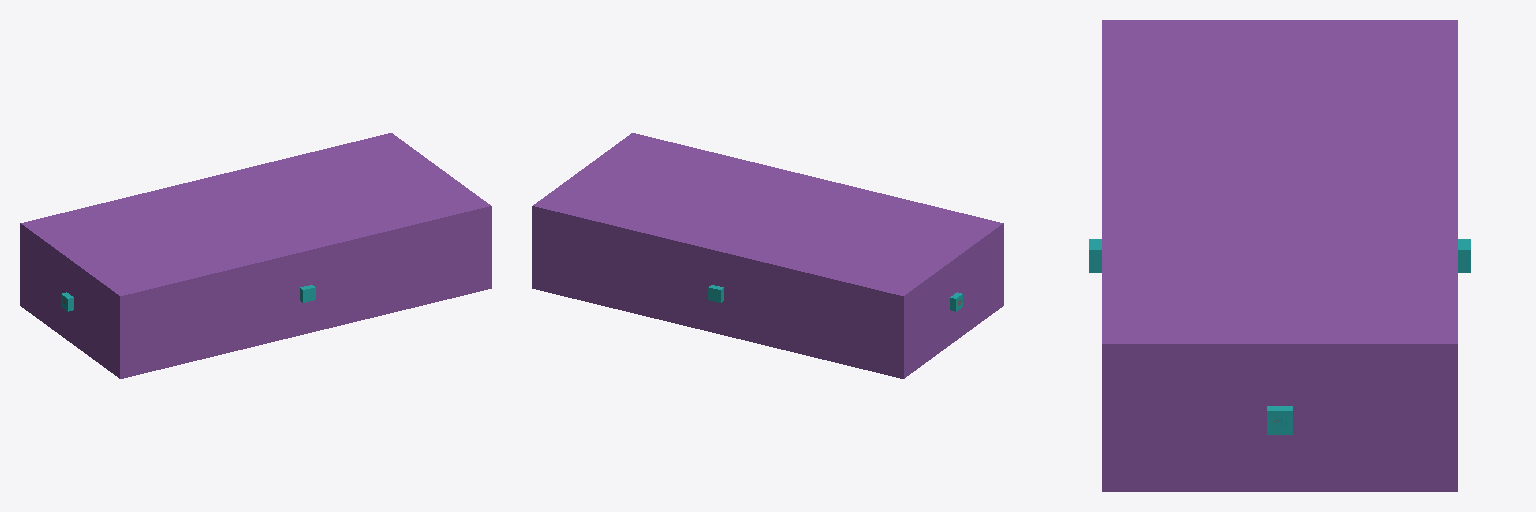
--- Render facts (derived) ---
3 views of the same robot in one strip: view 1: azimuth 30°, elevation 25°; view 2: azimuth 150°, elevation 25°; view 3: azimuth 270°, elevation 25° (orthographic).
Robot: LCAMP_Robot — 38 links, 37 joints (37 fixed); root link center; default pose: every joint at zero.
Visible links, largest first — view 1: center; view 2: center; view 3: center, Sensorbox_front.
Link boxes in pixels (box(x1,y1,x2,y2)): center: box(20, 133, 491, 378); center: box(532, 133, 1003, 378); center: box(1102, 20, 1457, 491); Sensorbox_front: box(1267, 406, 1292, 434).
Size in the robot's own frame: 0.31 by 0.15 by 0.064 metres.
Geometry: only primitive shapes (box / cylinder / sphere) drawn; not drawn: 24 mesh visuals (reference in a form the renderer does not follow).

robot.urdf — LCAMP_Robot:
?<?xml version="1.0" encoding="utf-8"?>
<robot name="LCAMP_Robot">
  <link name="center">
    <inertial>
      <origin rpy="0 0 0" xyz="0 0 0" />
      <mass value="50" />
      <inertia ixx="9.873334740207909E-05" ixy="0" ixz="0" iyy="0.00039206672253317153" iyz="0" izz="0.0004566667317381781" />
    </inertial>
    <visual>
      <geometry>
        <box size="0.3000000142492354 0.14000000059604645 0.06400000303983688" />
      </geometry>
      <material name="center_material">
        <color rgba="0.6000000238418579 0.4000000059604645 0.699999988079071 0.5" />
      </material>
    </visual>
    <collision>
      <geometry>
        <box size="0.3000000142492354 0.14000000059604645 0.06400000303983688" />
      </geometry>
    </collision>
  </link>
  <link name="drive_rl">
    <inertial>
      <origin rpy="0 0 0" xyz="0 0 0" />
      <mass value="5" />
      <inertia ixx="0" ixy="0" ixz="0" iyy="0" iyz="0" izz="0" />
    </inertial>
    <visual>
      <geometry>
   <box size="0.01 0.01 0.01" />
      </geometry>
      <material name="drive_rl_material">
        <color rgba="0.2 0.7 0.7 0.2" />
      </material>
    </visual>
    <collision>
      <geometry>
   <box size="0.01 0.01 0.01" />
      </geometry>
    </collision>
  </link>
  <link name="drive_rl_Stepper-Drive_0_1">
    <inertial>
      <origin rpy="0 0 0" xyz="0 0 0" />
      <mass value="100" />
      <inertia ixx="4.746667343030406E-05" ixy="0" ixz="0" iyy="0.0004016333905630151" iyz="0" izz="0.000380833387599174" />
    </inertial>
    <visual name="HolderBase">
      <origin rpy="0 0 0" xyz="0 0 0" />
      <geometry>
        <mesh filename="[local-path]\Source\Repos\LCAMP\Daten\DHBW CAD-Data\DriveSystem\STL-Step-Dateien\stepper_Holder_64.STL" scale="0.001 0.001 0.001" />
      </geometry>
      <material name="HolderBase_material">
        <color rgba="0.501960813999176 0.501960813999176 0.501960813999176 1" />
      </material>
    </visual>
    <visual name="Stepper Motor NEMA17">
      <origin rpy="0 0 0" xyz="0 0 0" />
      <geometry>
        <box size="0.01 0.01 0.01" />
      </geometry>
      <material name="Stepper Motor NEMA17_material">
        <color rgba="0.501960813999176 0.501960813999176 0.501960813999176 0.3921568691730499" />
      </material>
    </visual>
    <visual name="Motor Controller">
      <origin rpy="0 0 0" xyz="0 0 0" />
      <geometry>
        <box size="0.01 0.01 0.01" />
      </geometry>
      <material name="Motor Controller_material">
        <color rgba="0.7372549176216125 0.501960813999176 0.501960813999176 0.3921568691730499" />
      </material>
    </visual>
    <collision>
      <geometry>
        <cylinder length="0.04" radius="0.01" />
      </geometry>
    </collision>
  </link>
  <link name="drive_rr">
    <inertial>
      <origin rpy="0 0 0" xyz="0 0 0" />
      <mass value="5" />
      <inertia ixx="0" ixy="0" ixz="0" iyy="0" iyz="0" izz="0" />
    </inertial>
    <visual>
      <geometry>
   <box size="0.01 0.01 0.01" />
      </geometry>
      <material name="drive_rr_material">
        <color rgba="0.2 0.7 0.7 0.2" />
      </material>
    </visual>
    <collision>
      <geometry>
   <box size="0.01 0.01 0.01" />
      </geometry>
    </collision>
  </link>
  <link name="drive_rr_Stepper-Drive_0_2">
    <inertial>
      <origin rpy="0 0 0" xyz="0 0 0" />
      <mass value="100" />
      <inertia ixx="4.746667343030406E-05" ixy="0" ixz="0" iyy="0.0004016333905630151" iyz="0" izz="0.000380833387599174" />
    </inertial>
    <visual name="HolderBase">
      <origin rpy="0 0 0" xyz="0 0 0" />
      <geometry>
        <mesh filename="[local-path]\Source\Repos\LCAMP\Daten\DHBW CAD-Data\DriveSystem\STL-Step-Dateien\stepper_Holder_64.STL" scale="0.001 0.001 0.001" />
      </geometry>
      <material name="HolderBase_material">
        <color rgba="0.501960813999176 0.501960813999176 0.501960813999176 1" />
      </material>
    </visual>
    <visual name="Stepper Motor NEMA17">
      <origin rpy="0 0 0" xyz="0 0 0" />
      <geometry>
        <box size="0.01 0.01 0.01" />
      </geometry>
      <material name="Stepper Motor NEMA17_material">
        <color rgba="0.501960813999176 0.501960813999176 0.501960813999176 0.3921568691730499" />
      </material>
    </visual>
    <visual name="Motor Controller">
      <origin rpy="0 0 0" xyz="0 0 0" />
      <geometry>
        <box size="0.01 0.01 0.01" />
      </geometry>
      <material name="Motor Controller_material">
        <color rgba="0.7372549176216125 0.501960813999176 0.501960813999176 0.3921568691730499" />
      </material>
    </visual>
    <collision>
      <geometry>
        <cylinder length="0.04" radius="0.01" />     
         </geometry>
    </collision>
  </link>
  <link name="drive_fl">
    <inertial>
      <origin rpy="0 0 0" xyz="0 0 0" />
      <mass value="5" />
      <inertia ixx="0" ixy="0" ixz="0" iyy="0" iyz="0" izz="0" />
    </inertial>
    <visual>
      <geometry>
   <box size="0.01 0.01 0.01" />
      </geometry>
      <material name="drive_fl_material">
        <color rgba="0.2 0.7 0.7 0.2" />
      </material>
    </visual>
    <collision>
      <geometry>
   <box size="0.01 0.01 0.01" />
      </geometry>
    </collision>
  </link>
  <link name="drive_fl_Drive-Holder_0_3">
    <inertial>
      <origin rpy="0 0 0" xyz="0 0 0" />
      <mass value="100" />
      <inertia ixx="4.746667343030406E-05" ixy="0" ixz="0" iyy="0.0004016333905630151" iyz="0" izz="0.000380833387599174" />
    </inertial>
    <visual name="HolderBase">
      <origin rpy="0 0 0" xyz="0 0 0" />
      <geometry>
        <box size="0.01 0.01 0.01" />
      </geometry>
      <material name="HolderBase_material">
        <color rgba="0.501960813999176 0.501960813999176 0.501960813999176 1" />
      </material>
    </visual>
    <visual name="DriveHolder">
      <origin rpy="0 0 0" xyz="0 0 0" />
      <geometry>
        <box size="0.01 0.01 0.01" />
      </geometry>
      <material name="DriveHolder_material">
        <color rgba="0.501960813999176 0.501960813999176 0.501960813999176 1" />
      </material>
    </visual>
    <visual name="Shaft">
      <origin rpy="0 0 0" xyz="0 0 0" />
      <geometry>
        <box size="0.01 0.01 0.01" />
      </geometry>
      <material name="Shaft_material">
        <color rgba="0.5 0.5 0.9 0.6" />
      </material>
    </visual>
    <visual name="adjusting ring">
      <origin rpy="0 0 0" xyz="0 0 0" />
      <geometry>
        <box size="0.01 0.01 0.01" />
      </geometry>
      <material name="adjusting ring_material">
        <color rgba="0.5 0.5 0.9 0.6" />
      </material>
    </visual>
    <collision>
      <geometry>
        <cylinder length="0.04" radius="0.01" />
      </geometry>
    </collision>
  </link>
  <link name="drive_fl_Omni-Wheel_0_4">
    <inertial>
      <origin rpy="0 0 0" xyz="0 0 0" />
      <mass value="100" />
      <inertia ixx="4.746667343030406E-05" ixy="0" ixz="0" iyy="0.0004016333905630151" iyz="0" izz="0.000380833387599174" />
    </inertial>
    <visual name="Wheel-Hub">
      <origin rpy="0 0 0" xyz="0 0 0" />
      <geometry>
        <mesh filename="[local-path]\Source\Repos\LCAMP\Daten\DHBW CAD-Data\Wheels\STL-Step-Dateien\Wheel_Hub_ax.STL" scale="0.001 0.001 0.001" />
      </geometry>
      <material name="Wheel-Hub_material">
        <color rgba="0.501960813999176 0.501960813999176 0.501960813999176 1" />
      </material>
    </visual>
    <visual name="rim_inner_a">
      <origin rpy="0 0 0" xyz="0 0 0" />
      <geometry>
        <mesh filename="[local-path]\Source\Repos\LCAMP\Daten\DHBW CAD-Data\OmniWheel\STL-Step-Dateien\OmniWheel_Star_2a.STL" scale="0.001 0.001 0.001" />
      </geometry>
      <material name="rim_inner_a_material">
        <color rgba="0.501960813999176 0.501960813999176 0.501960813999176 1" />
      </material>
    </visual>
    <visual name="rim_inner_b">
      <origin rpy="0 0 0" xyz="0 0 0" />
      <geometry>
        <mesh filename="[local-path]\Source\Repos\LCAMP\Daten\DHBW CAD-Data\OmniWheel\STL-Step-Dateien\OmniWheel_Star_2b.STL" scale="0.001 0.001 0.001" />
      </geometry>
      <material name="rim_inner_b_material">
        <color rgba="0.501960813999176 0.501960813999176 0.501960813999176 1" />
      </material>
    </visual>
    <visual name="rim_outer_a">
      <origin rpy="0 0 0" xyz="0 0 0" />
      <geometry>
        <mesh filename="[local-path]\Source\Repos\LCAMP\Daten\DHBW CAD-Data\OmniWheel\STL-Step-Dateien\OmniWheel_Star_1.STL" scale="0.001 0.001 0.001" />
      </geometry>
      <material name="rim_outer_a_material">
        <color rgba="0.501960813999176 0.501960813999176 0.501960813999176 1" />
      </material>
    </visual>
    <visual name="rim_outer_b">
      <origin rpy="0 0 0" xyz="0 0 0" />
      <geometry>
        <mesh filename="[local-path]\Source\Repos\LCAMP\Daten\DHBW CAD-Data\OmniWheel\STL-Step-Dateien\OmniWheel_Star_1.STL" scale="0.001 0.001 0.001" />
      </geometry>
      <material name="rim_outer_b_material">
        <color rgba="0.501960813999176 0.501960813999176 0.501960813999176 1" />
      </material>
    </visual>
    <visual name="Wheel-Hub-Cup">
      <origin rpy="0 0 0" xyz="0 0 0" />
      <geometry>
        <mesh filename="[local-path]\Source\Repos\LCAMP\Daten\DHBW CAD-Data\Wheels\STL-Step-Dateien\Hub_Cup_8.STL" scale="0.001 0.001 0.001" />
      </geometry>
      <material name="Wheel-Hub-Cup_material">
        <color rgba="0.5372549295425415 0.8117647171020508 0.9411764740943909 1" />
      </material>
    </visual>
    <visual name="Rollers_a">
      <origin rpy="0 0 0" xyz="0 0 0" />
      <geometry>
        <mesh filename="[local-path]\Source\Repos\LCAMP\Daten\DHBW CAD-Data\OmniWheel\STL-Step-Dateien\OmniWheel_Roller_2.STL" scale="0.001 0.001 0.001" />
      </geometry>
      <material name="Rollers_a_material">
        <color rgba="0.501960813999176 0.501960813999176 0.501960813999176 1" />
      </material>
    </visual>
    <visual name="Rollers_b">
      <origin rpy="0 0 0" xyz="0 0 0" />
      <geometry>
        <mesh filename="[local-path]\Source\Repos\LCAMP\Daten\DHBW CAD-Data\OmniWheel\STL-Step-Dateien\OmniWheel_Roller_2.STL" scale="0.001 0.001 0.001" />
      </geometry>
      <material name="Rollers_b_material">
        <color rgba="0.501960813999176 0.501960813999176 0.501960813999176 1" />
      </material>
    </visual>
    <collision>
      <geometry>
              <cylinder length="0.04" radius="0.01" />
      </geometry>
    </collision>
  </link>
  <link name="drive_fr">
    <inertial>
      <origin rpy="0 0 0" xyz="0 0 0" />
      <mass value="5" />
      <inertia ixx="0" ixy="0" ixz="0" iyy="0" iyz="0" izz="0" />
    </inertial>
    <visual>
      <geometry>
   <box size="0.01 0.01 0.01" />
      </geometry>
      <material name="drive_fr_material">
        <color rgba="0.2 0.7 0.7 0.2" />
      </material>
    </visual>
    <collision>
      <geometry>
   <box size="0.01 0.01 0.01" />
      </geometry>
    </collision>
  </link>
  <link name="drive_fr_Drive-Holder_0_5">
    <inertial>
      <origin rpy="0 0 0" xyz="0 0 0" />
      <mass value="100" />
      <inertia ixx="4.746667343030406E-05" ixy="0" ixz="0" iyy="0.0004016333905630151" iyz="0" izz="0.000380833387599174" />
    </inertial>
    <visual name="HolderBase">
      <origin rpy="0 0 0" xyz="0 0 0" />
      <geometry>
        <box size="0.01 0.01 0.01" />
      </geometry>
      <material name="HolderBase_material">
        <color rgba="0.501960813999176 0.501960813999176 0.501960813999176 1" />
      </material>
    </visual>
    <visual name="DriveHolder">
      <origin rpy="0 0 0" xyz="0 0 0" />
      <geometry>
        <box size="0.01 0.01 0.01" />
      </geometry>
      <material name="DriveHolder_material">
        <color rgba="0.501960813999176 0.501960813999176 0.501960813999176 1" />
      </material>
    </visual>
    <visual name="Shaft">
      <origin rpy="0 0 0" xyz="0 0 0" />
      <geometry>
        <box size="0.01 0.01 0.01" />
      </geometry>
      <material name="Shaft_material">
        <color rgba="0.5 0.5 0.9 0.6" />
      </material>
    </visual>
    <visual name="adjusting ring">
      <origin rpy="0 0 0" xyz="0 0 0" />
      <geometry>
        <box size="0.01 0.01 0.01" />
      </geometry>
      <material name="adjusting ring_material">
        <color rgba="0.5 0.5 0.9 0.6" />
      </material>
    </visual>
    <collision>
      <geometry>
              <cylinder length="0.04" radius="0.01" />
      </geometry>
    </collision>
  </link>
  <link name="drive_fr_Omni-Wheel_0_6">
    <inertial>
      <origin rpy="0 0 0" xyz="0 0 0" />
      <mass value="100" />
      <inertia ixx="4.746667343030406E-05" ixy="0" ixz="0" iyy="0.0004016333905630151" iyz="0" izz="0.000380833387599174" />
    </inertial>
    <visual name="Wheel-Hub">
      <origin rpy="0 0 0" xyz="0 0 0" />
      <geometry>
        <mesh filename="[local-path]\Source\Repos\LCAMP\Daten\DHBW CAD-Data\Wheels\STL-Step-Dateien\Wheel_Hub_ax.STL" scale="0.001 0.001 0.001" />
      </geometry>
      <material name="Wheel-Hub_material">
        <color rgba="0.501960813999176 0.501960813999176 0.501960813999176 1" />
      </material>
    </visual>
    <visual name="rim_inner_a">
      <origin rpy="0 0 0" xyz="0 0 0" />
      <geometry>
        <mesh filename="[local-path]\Source\Repos\LCAMP\Daten\DHBW CAD-Data\OmniWheel\STL-Step-Dateien\OmniWheel_Star_2a.STL" scale="0.001 0.001 0.001" />
      </geometry>
      <material name="rim_inner_a_material">
        <color rgba="0.501960813999176 0.501960813999176 0.501960813999176 1" />
      </material>
    </visual>
    <visual name="rim_inner_b">
      <origin rpy="0 0 0" xyz="0 0 0" />
      <geometry>
        <mesh filename="[local-path]\Source\Repos\LCAMP\Daten\DHBW CAD-Data\OmniWheel\STL-Step-Dateien\OmniWheel_Star_2b.STL" scale="0.001 0.001 0.001" />
      </geometry>
      <material name="rim_inner_b_material">
        <color rgba="0.501960813999176 0.501960813999176 0.501960813999176 1" />
      </material>
    </visual>
    <visual name="rim_outer_a">
      <origin rpy="0 0 0" xyz="0 0 0" />
      <geometry>
        <mesh filename="[local-path]\Source\Repos\LCAMP\Daten\DHBW CAD-Data\OmniWheel\STL-Step-Dateien\OmniWheel_Star_1.STL" scale="0.001 0.001 0.001" />
      </geometry>
      <material name="rim_outer_a_material">
        <color rgba="0.501960813999176 0.501960813999176 0.501960813999176 1" />
      </material>
    </visual>
    <visual name="rim_outer_b">
      <origin rpy="0 0 0" xyz="0 0 0" />
      <geometry>
        <mesh filename="[local-path]\Source\Repos\LCAMP\Daten\DHBW CAD-Data\OmniWheel\STL-Step-Dateien\OmniWheel_Star_1.STL" scale="0.001 0.001 0.001" />
      </geometry>
      <material name="rim_outer_b_material">
        <color rgba="0.501960813999176 0.501960813999176 0.501960813999176 1" />
      </material>
    </visual>
    <visual name="Wheel-Hub-Cup">
      <origin rpy="0 0 0" xyz="0 0 0" />
      <geometry>
        <mesh filename="[local-path]\Source\Repos\LCAMP\Daten\DHBW CAD-Data\Wheels\STL-Step-Dateien\Hub_Cup_8.STL" scale="0.001 0.001 0.001" />
      </geometry>
      <material name="Wheel-Hub-Cup_material">
        <color rgba="0.5372549295425415 0.8117647171020508 0.9411764740943909 1" />
      </material>
    </visual>
    <visual name="Rollers_a">
      <origin rpy="0 0 0" xyz="0 0 0" />
      <geometry>
        <mesh filename="[local-path]\Source\Repos\LCAMP\Daten\DHBW CAD-Data\OmniWheel\STL-Step-Dateien\OmniWheel_Roller_2.STL" scale="0.001 0.001 0.001" />
      </geometry>
      <material name="Rollers_a_material">
        <color rgba="0.501960813999176 0.501960813999176 0.501960813999176 1" />
      </material>
    </visual>
    <visual name="Rollers_b">
      <origin rpy="0 0 0" xyz="0 0 0" />
      <geometry>
        <mesh filename="[local-path]\Source\Repos\LCAMP\Daten\DHBW CAD-Data\OmniWheel\STL-Step-Dateien\OmniWheel_Roller_2.STL" scale="0.001 0.001 0.001" />
      </geometry>
      <material name="Rollers_b_material">
        <color rgba="0.501960813999176 0.501960813999176 0.501960813999176 1" />
      </material>
    </visual>
    <collision>
      <geometry>
            <cylinder length="0.04" radius="0.01" />
      </geometry>
    </collision>
  </link>
  <link name="Sensorbox_front">
    <inertial>
      <origin rpy="0 0 0" xyz="0 0 0" />
      <mass value="5" />
      <inertia ixx="0" ixy="0" ixz="0" iyy="0" iyz="0" izz="0" />
    </inertial>
    <visual>
      <geometry>
   <box size="0.01 0.01 0.01" />
      </geometry>
      <material name="Sensorbox_front_material">
        <color rgba="0.2 0.7 0.7 0.2" />
      </material>
    </visual>
    <collision>
      <geometry>
   <box size="0.01 0.01 0.01" />
      </geometry>
    </collision>
  </link>
  <link name="Sensorbox_front_Sensor_1_7a">
    <inertial>
      <origin rpy="0 0 0" xyz="0 0 0" />
      <mass value="100" />
      <inertia ixx="4.746667343030406E-05" ixy="0" ixz="0" iyy="0.0004016333905630151" iyz="0" izz="0.000380833387599174" />
    </inertial>
    <collision>
      <geometry>
               <cylinder length="0.04" radius="0.01" />
      </geometry>
    </collision>
  </link>
  <link name="Sensorbox_front_Sensor_2_8a">
    <inertial>
      <origin rpy="0 0 0" xyz="0 0 0" />
      <mass value="100" />
      <inertia ixx="4.746667343030406E-05" ixy="0" ixz="0" iyy="0.0004016333905630151" iyz="0" izz="0.000380833387599174" />
    </inertial>
    <collision>
      <geometry>
              <cylinder length="0.04" radius="0.01" />
      </geometry>
    </collision>
  </link>
  <link name="Sensorbox_front_Sensor_3_9a">
    <inertial>
      <origin rpy="0 0 0" xyz="0 0 0" />
      <mass value="100" />
      <inertia ixx="4.746667343030406E-05" ixy="0" ixz="0" iyy="0.0004016333905630151" iyz="0" izz="0.000380833387599174" />
    </inertial>
    <collision>
      <geometry>
               <cylinder length="0.04" radius="0.01" />
      </geometry>
    </collision>
  </link>
  <link name="Sensorbox_front_Sensor_4_10a">
    <inertial>
      <origin rpy="0 0 0" xyz="0 0 0" />
      <mass value="100" />
      <inertia ixx="4.746667343030406E-05" ixy="0" ixz="0" iyy="0.0004016333905630151" iyz="0" izz="0.000380833387599174" />
    </inertial>
    <collision>
      <geometry>
              <cylinder length="0.04" radius="0.01" />
      </geometry>
    </collision>
  </link>
  <link name="Sensorbox_front_sbFront">
    <inertial>
      <origin rpy="0 0 0" xyz="0 0 0" />
      <mass value="100" />
      <inertia ixx="4.746667343030406E-05" ixy="0" ixz="0" iyy="0.0004016333905630151" iyz="0" izz="0.000380833387599174" />
    </inertial>
    <visual>
      <geometry>
        <mesh filename="[local-path]\Source\Repos\LCAMP\Daten\DHBW CAD-Data\SensorSystems\STL-Step-Files\Sensorbox curved_15.STL" scale="0.001 0.001 0.001" />
      </geometry>
      <material name="Sensorbox_front_sbFront_material">
        <color rgba="0.501960813999176 0.501960813999176 0.501960813999176 1" />
      </material>
    </visual>
    <collision>
      <geometry>
        <mesh filename="[local-path]\Source\Repos\LCAMP\Daten\DHBW CAD-Data\SensorSystems\STL-Step-Files\Sensorbox curved_15.STL" scale="0.001 0.001 0.001" />
      </geometry>
    </collision>
  </link>
  <link name="Sensorbox_front_Connetion_Pins">
    <inertial>
      <origin rpy="0 0 0" xyz="0 0 0" />
      <mass value="1" />
      <inertia ixx="3.4166671535155654E-09" ixy="0" ixz="0" iyy="9.66666804409282E-09" iyz="0" izz="1.0416668150962088E-08" />
    </inertial>
    <visual>
      <geometry>
        <box size="0.010000000474974513 0.005000000353902578 0.004000000189989805" />
      </geometry>
      <material name="Sensorbox_front_Connetion_Pins_material">
        <color rgba="0.501960813999176 0.501960813999176 0.501960813999176 1" />
      </material>
    </visual>
    <collision>
      <geometry>
        <box size="0.010000000474974513 0.005000000353902578 0.004000000189989805" />
      </geometry>
    </collision>
  </link>
  <link name="Sensorbox_back">
    <inertial>
      <origin rpy="0 0 0" xyz="0 0 0" />
      <mass value="5" />
      <inertia ixx="0" ixy="0" ixz="0" iyy="0" iyz="0" izz="0" />
    </inertial>
    <visual>
      <geometry>
   <box size="0.01 0.01 0.01" />
      </geometry>
      <material name="Sensorbox_back_material">
        <color rgba="0.2 0.7 0.7 0.2" />
      </material>
    </visual>
    <collision>
      <geometry>
   <box size="0.01 0.01 0.01" />
      </geometry>
    </collision>
  </link>
  <link name="Sensorbox_back_Sensor_1_11a">
    <inertial>
      <origin rpy="0 0 0" xyz="0 0 0" />
      <mass value="100" />
      <inertia ixx="4.746667343030406E-05" ixy="0" ixz="0" iyy="0.0004016333905630151" iyz="0" izz="0.000380833387599174" />
    </inertial>
    <collision>
      <geometry>
           <cylinder length="0.04" radius="0.01" />
      </geometry>
    </collision>
  </link>
  <link name="Sensorbox_back_Sensor_2_12a">
    <inertial>
      <origin rpy="0 0 0" xyz="0 0 0" />
      <mass value="100" />
      <inertia ixx="4.746667343030406E-05" ixy="0" ixz="0" iyy="0.0004016333905630151" iyz="0" izz="0.000380833387599174" />
    </inertial>
    <collision>
      <geometry>        <cylinder length="0.04" radius="0.01" />      
      </geometry>
    </collision>
  </link>
  <link name="Sensorbox_back_Sensor_3_13a">
    <inertial>
      <origin rpy="0 0 0" xyz="0 0 0" />
      <mass value="100" />
      <inertia ixx="4.746667343030406E-05" ixy="0" ixz="0" iyy="0.0004016333905630151" iyz="0" izz="0.000380833387599174" />
    </inertial>
    <collision>
      <geometry>
             <cylinder length="0.04" radius="0.01" />
      </geometry>
    </collision>
  </link>
  <link name="Sensorbox_back_Sensor_4_14a">
    <inertial>
      <origin rpy="0 0 0" xyz="0 0 0" />
      <mass value="100" />
      <inertia ixx="4.746667343030406E-05" ixy="0" ixz="0" iyy="0.0004016333905630151" iyz="0" izz="0.000380833387599174" />
    </inertial>
    <collision>
      <geometry>
         <cylinder length="0.04" radius="0.01" />
      </geometry>
    </collision>
  </link>
  <link name="Sensorbox_back_sbFront">
    <inertial>
      <origin rpy="0 0 0" xyz="0 0 0" />
      <mass value="100" />
      <inertia ixx="4.746667343030406E-05" ixy="0" ixz="0" iyy="0.0004016333905630151" iyz="0" izz="0.000380833387599174" />
    </inertial>
    <visual>
      <geometry>
        <mesh filename="[local-path]\Source\Repos\LCAMP\Daten\DHBW CAD-Data\SensorSystems\STL-Step-Files\Sensorbox curved_15.STL" scale="0.001 0.001 0.001" />
      </geometry>
      <material name="Sensorbox_back_sbFront_material">
        <color rgba="0.501960813999176 0.501960813999176 0.501960813999176 1" />
      </material>
    </visual>
    <collision>
      <geometry>
        <mesh filename="[local-path]\Source\Repos\LCAMP\Daten\DHBW CAD-Data\SensorSystems\STL-Step-Files\Sensorbox curved_15.STL" scale="0.001 0.001 0.001" />
      </geometry>
    </collision>
  </link>
  <link name="Sensorbox_back_Connetion_Pins">
    <inertial>
      <origin rpy="0 0 0" xyz="0 0 0" />
      <mass value="1" />
      <inertia ixx="3.4166671535155654E-09" ixy="0" ixz="0" iyy="9.66666804409282E-09" iyz="0" izz="1.0416668150962088E-08" />
    </inertial>
    <visual>
      <geometry>
        <box size="0.010000000474974513 0.005000000353902578 0.004000000189989805" />
      </geometry>
      <material name="Sensorbox_back_Connetion_Pins_material">
        <color rgba="0.501960813999176 0.501960813999176 0.501960813999176 1" />
      </material>
    </visual>
    <collision>
      <geometry>
        <box size="0.010000000474974513 0.005000000353902578 0.004000000189989805" />
      </geometry>
    </collision>
  </link>
  <link name="Sensorbox_center">
    <inertial>
      <origin rpy="0 0 0" xyz="0 0 0" />
      <mass value="5" />
      <inertia ixx="0" ixy="0" ixz="0" iyy="0" iyz="0" izz="0" />
    </inertial>
    <visual>
      <geometry>
   <box size="0.01 0.01 0.01" />
      </geometry>
      <material name="Sensorbox_center_material">
        <color rgba="0.2 0.7 0.7 0.2" />
      </material>
    </visual>
    <collision>
      <geometry>
   <box size="0.01 0.01 0.01" />
      </geometry>
    </collision>
  </link>
  <link name="Sensorbox_center_Sensor_1_15a">
    <inertial>
      <origin rpy="0 0 0" xyz="0 0 0" />
      <mass value="100" />
      <inertia ixx="4.746667343030406E-05" ixy="0" ixz="0" iyy="0.0004016333905630151" iyz="0" izz="0.000380833387599174" />
    </inertial>
    <collision>
      <geometry>
          <cylinder length="0.04" radius="0.01" />
      </geometry>
    </collision>
  </link>
  <link name="Sensorbox_center_Sensor_2_16a">
    <inertial>
      <origin rpy="0 0 0" xyz="0 0 0" />
      <mass value="100" />
      <inertia ixx="4.746667343030406E-05" ixy="0" ixz="0" iyy="0.0004016333905630151" iyz="0" izz="0.000380833387599174" />
    </inertial>
    <collision>
      <geometry>
              <cylinder length="0.04" radius="0.01" />
      </geometry>
    </collision>
  </link>
  <link name="Sensorbox_center_sbCenter">
    <inertial>
      <origin rpy="0 0 0" xyz="0 0 0" />
      <mass value="100" />
      <inertia ixx="4.746667343030406E-05" ixy="0" ixz="0" iyy="0.0004016333905630151" iyz="0" izz="0.000380833387599174" />
    </inertial>
    <visual>
      <geometry>
        <mesh filename="[local-path]\Source\Repos\LCAMP\Daten\DHBW CAD-Data\SensorSystems\STL-Step-Files\Sensorbox_small_64.STL" scale="0.001 0.001 0.001" />
      </geometry>
      <material name="Sensorbox_center_sbCenter_material">
        <color rgba="0.501960813999176 0.501960813999176 0.501960813999176 1" />
      </material>
    </visual>
    <collision>
      <geometry>
        <mesh filename="[local-path]\Source\Repos\LCAMP\Daten\DHBW CAD-Data\SensorSystems\STL-Step-Files\Sensorbox_small_64.STL" scale="0.001 0.001 0.001" />
      </geometry>
    </collision>
  </link>
  <link name="Sensorbox_center_Connetion_Pins">
    <inertial>
      <origin rpy="0 0 0" xyz="0 0 0" />
      <mass value="1" />
      <inertia ixx="3.4166671535155654E-09" ixy="0" ixz="0" iyy="9.66666804409282E-09" iyz="0" izz="1.0416668150962088E-08" />
    </inertial>
    <visual>
      <geometry>
        <box size="0.010000000474974513 0.005000000353902578 0.004000000189989805" />
      </geometry>
      <material name="Sensorbox_center_Connetion_Pins_material">
        <color rgba="0.501960813999176 0.501960813999176 0.501960813999176 1" />
      </material>
    </visual>
    <collision>
      <geometry>
        <box size="0.010000000474974513 0.005000000353902578 0.004000000189989805" />
      </geometry>
    </collision>
  </link>
  <link name="Controller">
    <inertial>
      <origin rpy="0 0 0" xyz="0 0 0" />
      <mass value="5" />
      <inertia ixx="0" ixy="0" ixz="0" iyy="0" iyz="0" izz="0" />
    </inertial>
    <visual>
      <geometry>
   <box size="0.01 0.01 0.01" />
      </geometry>
      <material name="Controller_material">
        <color rgba="0.2 0.7 0.7 0.2" />
      </material>
    </visual>
    <collision>
      <geometry>
   <box size="0.01 0.01 0.01" />
      </geometry>
    </collision>
  </link>
  <link name="Controller_Sensor_1_17a">
    <inertial>
      <origin rpy="0 0 0" xyz="0 0 0" />
      <mass value="100" />
      <inertia ixx="4.746667343030406E-05" ixy="0" ixz="0" iyy="0.0004016333905630151" iyz="0" izz="0.000380833387599174" />
    </inertial>
    <collision>
      <geometry>
            <cylinder length="0.04" radius="0.01" />
      </geometry>
    </collision>
  </link>
  <link name="Controller_Sensor_2_18a">
    <inertial>
      <origin rpy="0 0 0" xyz="0 0 0" />
      <mass value="100" />
      <inertia ixx="4.746667343030406E-05" ixy="0" ixz="0" iyy="0.0004016333905630151" iyz="0" izz="0.000380833387599174" />
    </inertial>
    <collision>
      <geometry>
        <cylinder length="0.04" radius="0.01" />
      </geometry>
    </collision>
  </link>
  <link name="Controller_sb_center_cont">
    <inertial>
      <origin rpy="0 0 0" xyz="0 0 0" />
      <mass value="100" />
      <inertia ixx="4.746667343030406E-05" ixy="0" ixz="0" iyy="0.0004016333905630151" iyz="0" izz="0.000380833387599174" />
    </inertial>
    <visual>
      <geometry>
        <mesh filename="[local-path]\Source\Repos\LCAMP\Daten\DHBW CAD-Data\SensorSystems\STL-Step-Files\Sensorbox_small_arduino_64.STL" scale="0.001 0.001 0.001" />
      </geometry>
      <material name="Controller_sb_center_cont_material">
        <color rgba="0.501960813999176 0.501960813999176 0.501960813999176 1" />
      </material>
    </visual>
    <collision>
      <geometry>
        <mesh filename="[local-path]\Source\Repos\LCAMP\Daten\DHBW CAD-Data\SensorSystems\STL-Step-Files\Sensorbox_small_arduino_64.STL" scale="0.001 0.001 0.001" />
      </geometry>
    </collision>
  </link>
  <link name="MainFrame">
    <inertial>
      <origin rpy="0 0 0" xyz="0 0 0" />
      <mass value="5" />
      <inertia ixx="0" ixy="0" ixz="0" iyy="0" iyz="0" izz="0" />
    </inertial>
    <visual>
      <geometry>
   <box size="0.01 0.01 0.01" />
      </geometry>
      <material name="MainFrame_material">
        <color rgba="0.2 0.7 0.7 0.2" />
      </material>
    </visual>
    <collision>
      <geometry>
   <box size="0.01 0.01 0.01" />
      </geometry>
    </collision>
  </link>
  <link name="MainFrame_CenterPlate_Alu">
    <inertial>
      <origin rpy="0 0 0" xyz="0 0 0" />
      <mass value="100" />
      <inertia ixx="4.746667343030406E-05" ixy="0" ixz="0" iyy="0.0004016333905630151" iyz="0" izz="0.000380833387599174" />
    </inertial>
    <visual>
      <geometry>
        <mesh filename="[local-path]\Source\Repos\LCAMP\Daten\DHBW CAD-Data\BaseFrame\STL-Step-Dateien\BasePlate.STL" scale="0.001 0.001 0.001" />
      </geometry>
      <material name="MainFrame_CenterPlate_Alu_material">
        <color rgba="0.501960813999176 0.501960813999176 0.501960813999176 1" />
      </material>
    </visual>
    <collision>
      <geometry>
        <mesh filename="[local-path]\Source\Repos\LCAMP\Daten\DHBW CAD-Data\BaseFrame\STL-Step-Dateien\BasePlate.STL" scale="0.001 0.001 0.001" />
      </geometry>
    </collision>
  </link>
  <link name="MainFrame_Basplate_Pexi">
    <inertial>
      <origin rpy="0 0 0" xyz="0 0 0" />
      <mass value="100" />
      <inertia ixx="4.746667343030406E-05" ixy="0" ixz="0" iyy="0.0004016333905630151" iyz="0" izz="0.000380833387599174" />
    </inertial>
    <visual>
      <geometry>
        <mesh filename="[local-path]\Source\Repos\LCAMP\Daten\DHBW CAD-Data\BaseFrame\STL-Step-Dateien\BasePlate.STL" scale="0.001 0.001 0.001" />
      </geometry>
      <material name="MainFrame_Basplate_Pexi_material">
        <color rgba="0.501960813999176 0.501960813999176 0.7764706015586853 0.1568627506494522" />
      </material>
    </visual>
    <collision>
      <geometry>
        <mesh filename="[local-path]\Source\Repos\LCAMP\Daten\DHBW CAD-Data\BaseFrame\STL-Step-Dateien\BasePlate.STL" scale="0.001 0.001 0.001" />
      </geometry>
    </collision>
  </link>
  <link name="MainFrame_Scrws_19a">
    <inertial>
      <origin rpy="0 0 0" xyz="0 0 0" />
      <mass value="100" />
      <inertia ixx="4.746667343030406E-05" ixy="0" ixz="0" iyy="0.0004016333905630151" iyz="0" izz="0.000380833387599174" />
    </inertial>
    <collision>
      <geometry>
             <cylinder length="0.04" radius="0.01" />
      </geometry>
    </collision>
  </link>
  <joint name="bjoint_drive_rl" type="fixed">
    <origin rpy="0 0 0" xyz="0 0 0" />
    <parent link="center" />
    <child link="drive_rl" />
    <axis xyz="0 0 1" />
    <dynamics damping="0.1" friction="0.1" />
  </joint>
  <joint name="joint_sub_drive_rl_Stepper-Drive_0_1" type="fixed">
    <origin rpy="0 0 0" xyz="0 0 0" />
    <parent link="drive_rl" />
    <child link="drive_rl_Stepper-Drive_0_1" />
    <axis xyz="0 0 1" />
    <dynamics damping="0.1" friction="0.1" />
  </joint>
  <joint name="bjoint_drive_rr" type="fixed">
    <origin rpy="0 0 0" xyz="0 0 0" />
    <parent link="center" />
    <child link="drive_rr" />
    <axis xyz="0 0 1" />
    <dynamics damping="0.1" friction="0.1" />
  </joint>
  <joint name="joint_sub_drive_rr_Stepper-Drive_0_2" type="fixed">
    <origin rpy="0 0 0" xyz="0 0 0" />
    <parent link="drive_rr" />
    <child link="drive_rr_Stepper-Drive_0_2" />
    <axis xyz="0 0 1" />
    <dynamics damping="0.1" friction="0.1" />
  </joint>
  <joint name="bjoint_drive_fl" type="fixed">
    <origin rpy="0 0 0" xyz="0 0 0" />
    <parent link="center" />
    <child link="drive_fl" />
    <axis xyz="0 0 1" />
    <dynamics damping="0.1" friction="0.1" />
  </joint>
  <joint name="joint_sub_drive_fl_Drive-Holder_0_3" type="fixed">
    <origin rpy="0 0 0" xyz="0 0 0" />
    <parent link="drive_fl" />
    <child link="drive_fl_Drive-Holder_0_3" />
    <axis xyz="0 0 1" />
    <dynamics damping="0.1" friction="0.1" />
  </joint>
  <joint name="joint_sub_drive_fl_Omni-Wheel_0_4" type="fixed">
    <origin rpy="0 0 0" xyz="0 0 0" />
    <parent link="drive_fl" />
    <child link="drive_fl_Omni-Wheel_0_4" />
    <axis xyz="0 0 1" />
    <dynamics damping="0.1" friction="0.1" />
  </joint>
  <joint name="bjoint_drive_fr" type="fixed">
    <origin rpy="0 0 0" xyz="0 0 0" />
    <parent link="center" />
    <child link="drive_fr" />
    <axis xyz="0 0 1" />
    <dynamics damping="0.1" friction="0.1" />
  </joint>
  <joint name="joint_sub_drive_fr_Drive-Holder_0_5" type="fixed">
    <origin rpy="0 0 0" xyz="0 0 0" />
    <parent link="drive_fr" />
    <child link="drive_fr_Drive-Holder_0_5" />
    <axis xyz="0 0 1" />
    <dynamics damping="0.1" friction="0.1" />
  </joint>
  <joint name="joint_sub_drive_fr_Omni-Wheel_0_6" type="fixed">
    <origin rpy="0 0 0" xyz="0 0 0" />
    <parent link="drive_fr" />
    <child link="drive_fr_Omni-Wheel_0_6" />
    <axis xyz="0 0 1" />
    <dynamics damping="0.1" friction="0.1" />
  </joint>
  <joint name="bjoint_Sensorbox_front" type="fixed">
    <origin rpy="0 0 0" xyz="0.150 0 0" />
    <parent link="center" />
    <child link="Sensorbox_front" />
    <axis xyz="0 0 1" />
    <dynamics damping="0.1" friction="0.1" />
  </joint>
  <joint name="joint_Sensorbox_front_Sensor_1" type="fixed">
    <origin rpy="0 3.1415927410125732 0" xyz="0 0 0.012000000104308128" />
    <parent link="Sensorbox_front" />
    <child link="Sensorbox_front_Sensor_1_7a" />
    <axis xyz="0 0 1" />
    <dynamics damping="0.1" friction="0.1" />
  </joint>
  <joint name="joint_Sensorbox_front_Sensor_2" type="fixed">
    <origin rpy="0 3.1415927410125732 0" xyz="0 0 0.012000000104308128" />
    <parent link="Sensorbox_front" />
    <child link="Sensorbox_front_Sensor_2_8a" />
    <axis xyz="0 0 1" />
    <dynamics damping="0.1" friction="0.1" />
  </joint>
  <joint name="joint_Sensorbox_front_Sensor_3" type="fixed">
    <origin rpy="0 3.1415927410125732 0" xyz="0 0 0.012000000104308128" />
    <parent link="Sensorbox_front" />
    <child link="Sensorbox_front_Sensor_3_9a" />
    <axis xyz="0 0 1" />
    <dynamics damping="0.1" friction="0.1" />
  </joint>
  <joint name="joint_Sensorbox_front_Sensor_4" type="fixed">
    <origin rpy="0 3.1415927410125732 0" xyz="0 0 0.012000000104308128" />
    <parent link="Sensorbox_front" />
    <child link="Sensorbox_front_Sensor_4_10a" />
    <axis xyz="0 0 1" />
    <dynamics damping="0.1" friction="0.1" />
  </joint>
  <joint name="link_Sensorbox_front_sbFront" type="fixed">
    <origin rpy="0 0 0" xyz="0.0115 0 0" />
    <parent link="Sensorbox_front" />
    <child link="Sensorbox_front_sbFront" />
    <axis xyz="0 0 1" />
    <dynamics damping="0.1" friction="0.1" />
  </joint>
  <joint name="link_Sensorbox_front_Connetion_Pins" type="fixed">
    <origin rpy="0 0 0" xyz="0 0 0" />
    <parent link="Sensorbox_front" />
    <child link="Sensorbox_front_Connetion_Pins" />
    <axis xyz="0 0 1" />
    <dynamics damping="0.1" friction="0.1" />
  </joint>
  <joint name="bjoint_Sensorbox_back" type="fixed">
    <origin rpy="0 0 3.1415927410125732" xyz="-0.150 0 0" />
    <parent link="center" />
    <child link="Sensorbox_back" />
    <axis xyz="0 0 1" />
    <dynamics damping="0.1" friction="0.1" />
  </joint>
  <joint name="joint_Sensorbox_back_Sensor_1" type="fixed">
    <origin rpy="0 3.1415927410125732 0" xyz="0 0 0.012000000104308128" />
    <parent link="Sensorbox_back" />
    <child link="Sensorbox_back_Sensor_1_11a" />
    <axis xyz="0 0 1" />
    <dynamics damping="0.1" friction="0.1" />
  </joint>
  <joint name="joint_Sensorbox_back_Sensor_2" type="fixed">
    <origin rpy="0 3.1415927410125732 0" xyz="0 0 0.012000000104308128" />
    <parent link="Sensorbox_back" />
    <child link="Sensorbox_back_Sensor_2_12a" />
    <axis xyz="0 0 1" />
    <dynamics damping="0.1" friction="0.1" />
  </joint>
  <joint name="joint_Sensorbox_back_Sensor_3" type="fixed">
    <origin rpy="0 3.1415927410125732 0" xyz="0 0 0.012000000104308128" />
    <parent link="Sensorbox_back" />
    <child link="Sensorbox_back_Sensor_3_13a" />
    <axis xyz="0 0 1" />
    <dynamics damping="0.1" friction="0.1" />
  </joint>
  <joint name="joint_Sensorbox_back_Sensor_4" type="fixed">
    <origin rpy="0 3.1415927410125732 0" xyz="0 0 0.012000000104308128" />
    <parent link="Sensorbox_back" />
    <child link="Sensorbox_back_Sensor_4_14a" />
    <axis xyz="0 0 1" />
    <dynamics damping="0.1" friction="0.1" />
  </joint>
  <joint name="link_Sensorbox_back_sbFront" type="fixed">
    <origin rpy="0 0 0" xyz="0.0015 0 0" />
    <parent link="Sensorbox_back" />
    <child link="Sensorbox_back_sbFront" />
    <axis xyz="0 0 1" />
    <dynamics damping="0.1" friction="0.1" />
  </joint>
  <joint name="link_Sensorbox_back_Connetion_Pins" type="fixed">
    <origin rpy="0 0 0" xyz="0 0 0" />
    <parent link="Sensorbox_back" />
    <child link="Sensorbox_back_Connetion_Pins" />
    <axis xyz="0 0 1" />
    <dynamics damping="0.1" friction="0.1" />
  </joint>
  <joint name="bjoint_Sensorbox_center" type="fixed">
    <origin rpy="0 0 0" xyz="0 -0.070 0" />
    <parent link="center" />
    <child link="Sensorbox_center" />
    <axis xyz="0 0 1" />
    <dynamics damping="0.1" friction="0.1" />
  </joint>
  <joint name="joint_Sensorbox_center_Sensor_1" type="fixed">
    <origin rpy="0 3.1415927410125732 0" xyz="0 0 0.012000000104308128" />
    <parent link="Sensorbox_center" />
    <child link="Sensorbox_center_Sensor_1_15a" />
    <axis xyz="0 0 1" />
    <dynamics damping="0.1" friction="0.1" />
  </joint>
  <joint name="joint_Sensorbox_center_Sensor_2" type="fixed">
    <origin rpy="0 3.1415927410125732 0" xyz="0 0 0.012000000104308128" />
    <parent link="Sensorbox_center" />
    <child link="Sensorbox_center_Sensor_2_16a" />
    <axis xyz="0 0 1" />
    <dynamics damping="0.1" friction="0.1" />
  </joint>
  <joint name="link_Sensorbox_center_sbCenter" type="fixed">
    <origin rpy="0 0 0" xyz="0 0 0" />
    <parent link="Sensorbox_center" />
    <child link="Sensorbox_center_sbCenter" />
    <axis xyz="0 0 1" />
    <dynamics damping="0.1" friction="0.1" />
  </joint>
  <joint name="link_Sensorbox_center_Connetion_Pins" type="fixed">
    <origin rpy="0 0 0" xyz="0 0 0" />
    <parent link="Sensorbox_center" />
    <child link="Sensorbox_center_Connetion_Pins" />
    <axis xyz="0 0 1" />
    <dynamics damping="0.1" friction="0.1" />
  </joint>
  <joint name="bjoint_Controller" type="fixed">
    <origin rpy="0 0 0" xyz="0 0.070 0" />
    <parent link="center" />
    <child link="Controller" />
    <axis xyz="0 0 1" />
    <dynamics damping="0.1" friction="0.1" />
  </joint>
  <joint name="joint_Controller_Sensor_1" type="fixed">
    <origin rpy="0 3.1415927410125732 0" xyz="0 0 0.012000000104308128" />
    <parent link="Controller" />
    <child link="Controller_Sensor_1_17a" />
    <axis xyz="0 0 1" />
    <dynamics damping="0.1" friction="0.1" />
  </joint>
  <joint name="joint_Controller_Sensor_2" type="fixed">
    <origin rpy="0 3.1415927410125732 0" xyz="0 0 0.012000000104308128" />
    <parent link="Controller" />
    <child link="Controller_Sensor_2_18a" />
    <axis xyz="0 0 1" />
    <dynamics damping="0.1" friction="0.1" />
  </joint>
  <joint name="link_Controller_sb_center_cont" type="fixed">
    <origin rpy="0 0 0" xyz="0 0 0" />
    <parent link="Controller" />
    <child link="Controller_sb_center_cont" />
    <axis xyz="0 0 1" />
    <dynamics damping="0.1" friction="0.1" />
  </joint>
  <joint name="bjoint_MainFrame" type="fixed">
    <origin rpy="0 0 0" xyz="0 0 0" />
    <parent link="center" />
    <child link="MainFrame" />
    <axis xyz="0 0 1" />
    <dynamics damping="0.1" friction="0.1" />
  </joint>
  <joint name="link_MainFrame_CenterPlate_Alu" type="fixed">
    <origin rpy="0 0 0" xyz="0 0 0" />
    <parent link="MainFrame" />
    <child link="MainFrame_CenterPlate_Alu" />
    <axis xyz="0 0 1" />
    <dynamics damping="0.1" friction="0.1" />
  </joint>
  <joint name="link_MainFrame_Basplate_Pexi" type="fixed">
    <origin rpy="0 0 0" xyz="0 0 0" />
    <parent link="MainFrame" />
    <child link="MainFrame_Basplate_Pexi" />
    <axis xyz="0 0 1" />
    <dynamics damping="0.1" friction="0.1" />
  </joint>
  <joint name="joint_MainFrame_Scrws" type="fixed">
    <origin rpy="0 3.1415927410125732 0" xyz="0 0 0.012000000104308128" />
    <parent link="MainFrame" />
    <child link="MainFrame_Scrws_19a" />
    <axis xyz="0 0 1" />
    <dynamics damping="0.1" friction="0.1" />
  </joint>
</robot>
